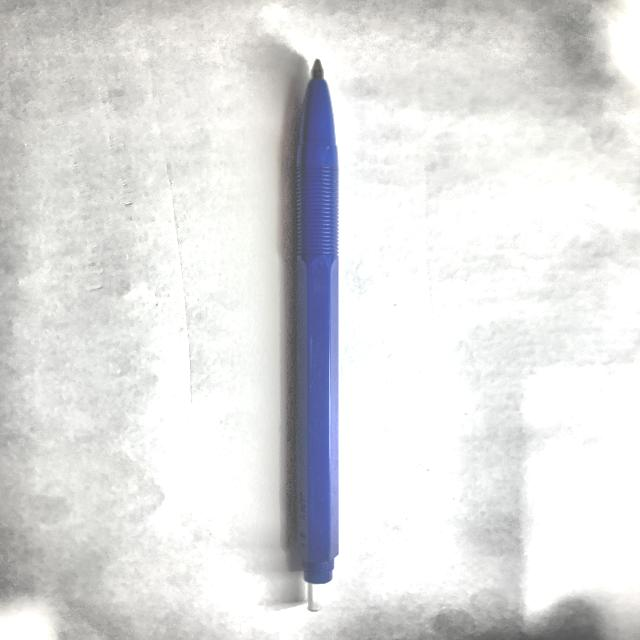Pulpen: (267, 51, 369, 619)
